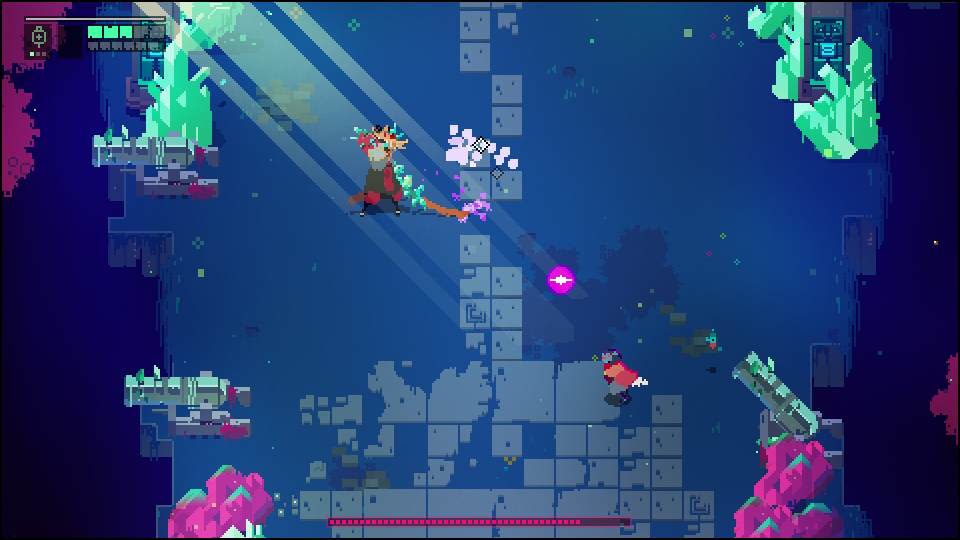hanged_man: (346, 120, 429, 218)
hanged_shot: (546, 263, 577, 296)
player: (597, 348, 643, 405)
